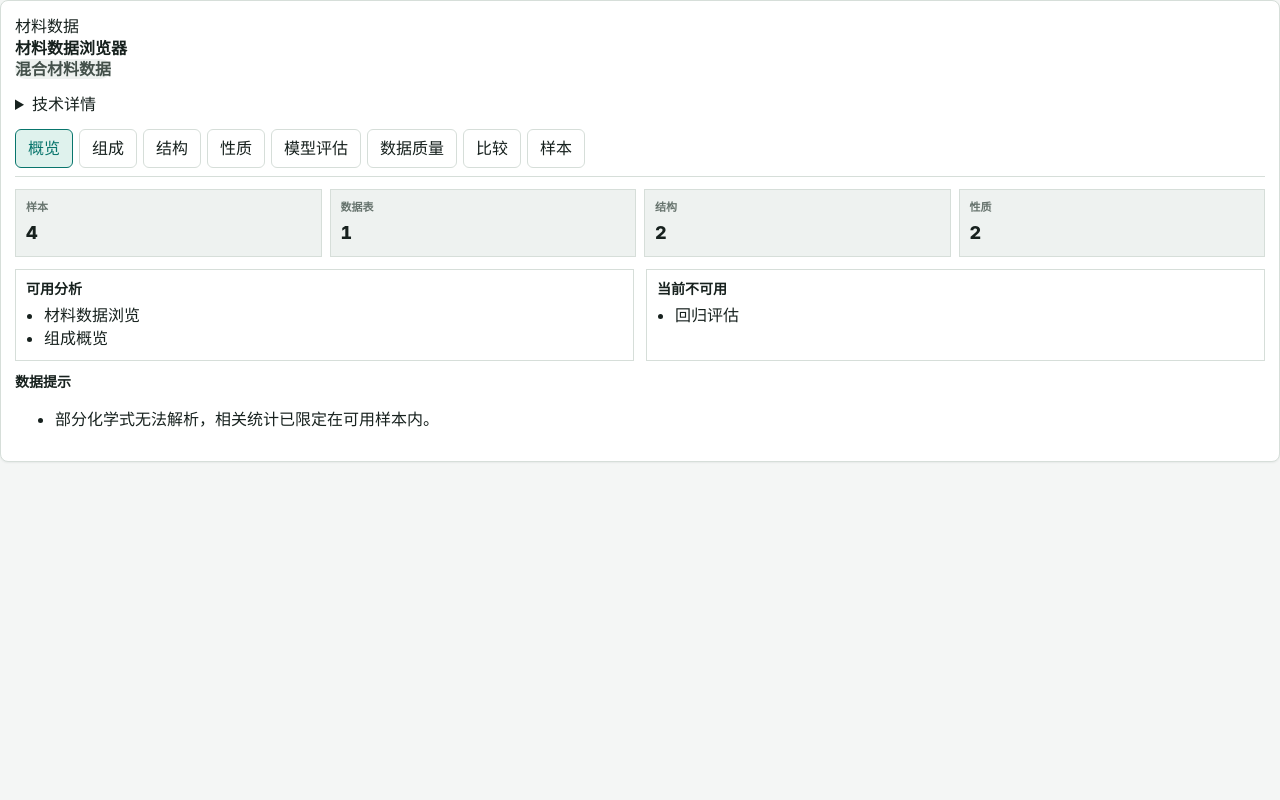
Test: DatasetMaterialsExplorerPanel › supports composition, property and stable sample inspection without executing code
The image size is (1280, 800).
Click the tab "组成". click: [108, 148]
box: [79, 129, 137, 168]
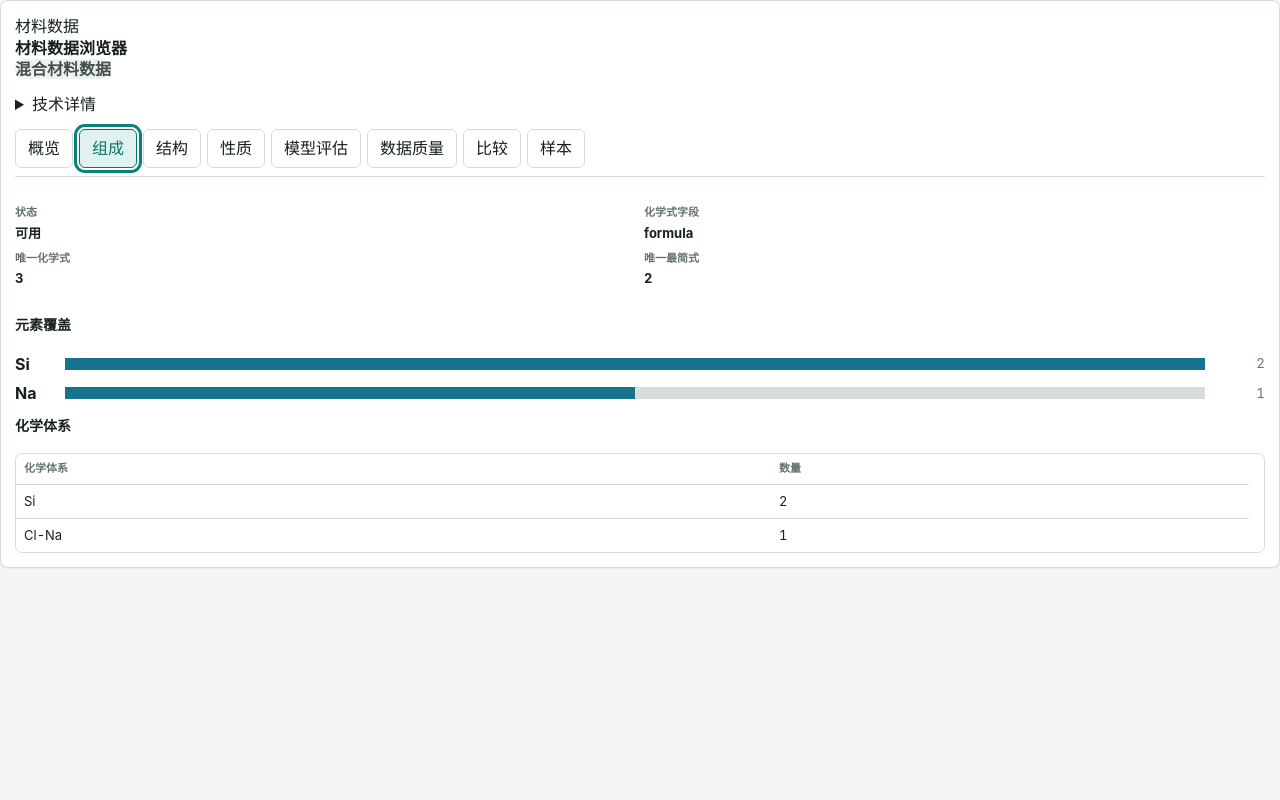
Expected: the element with test id "dataset-element-bars" shows "Si", [15, 354, 30, 374]
Expected: the element with test id "dataset-explorer-composition" shows "Cl-Na", [24, 527, 62, 543]
Click the tab "性质". click: [236, 148]
box: [207, 129, 265, 168]
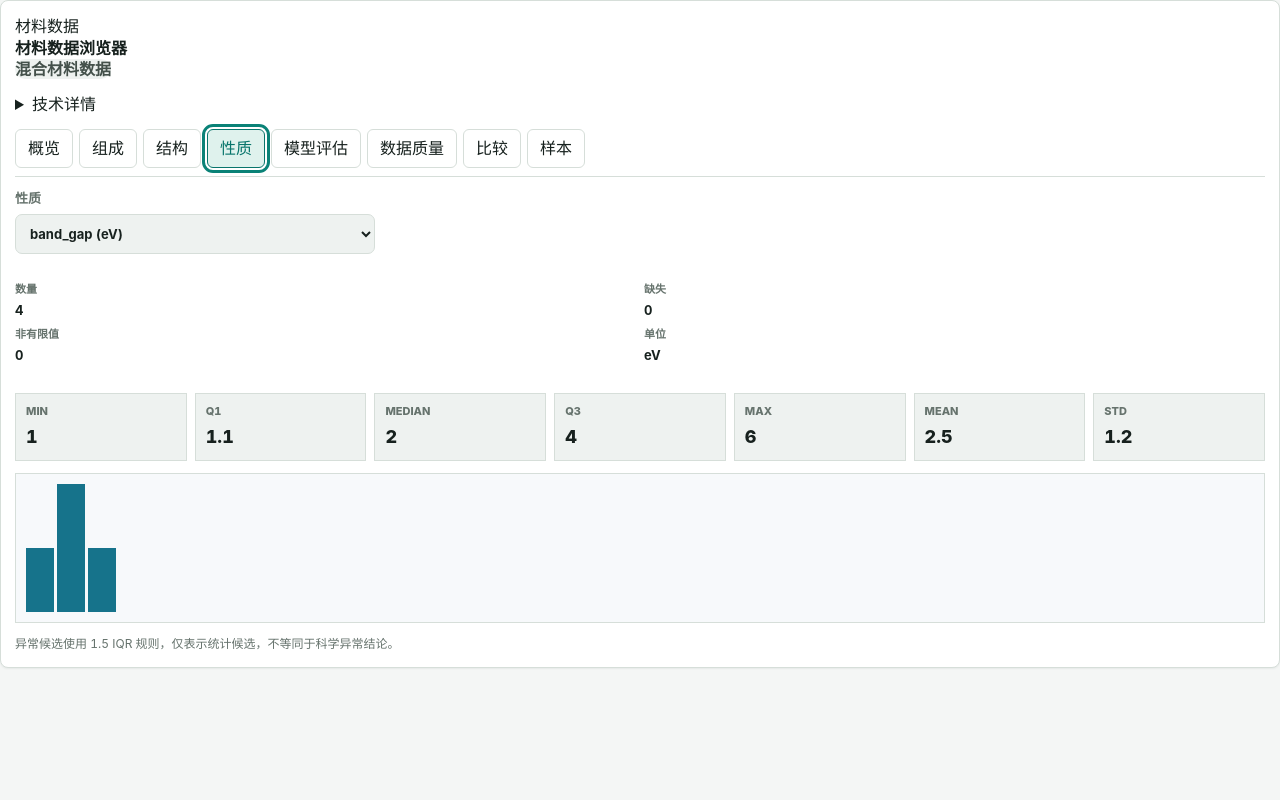
Select "density (g/cm^3)" in the dropdown labelled "性质". click: [195, 234]
box: [15, 214, 375, 254]
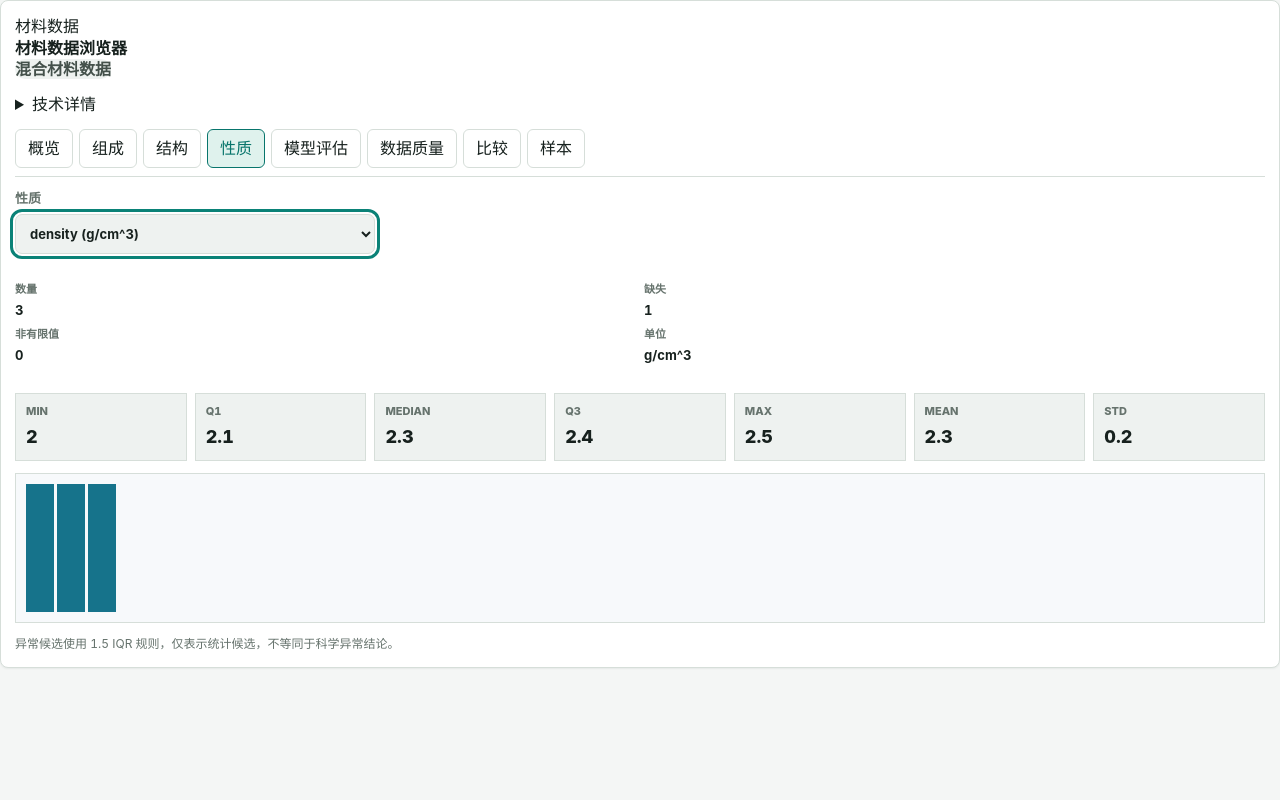
Expected: the element with test id "dataset-explorer-properties" shows "g/cm^3", [644, 347, 692, 363]
Click the tab "样本". click: [556, 148]
box: [527, 129, 585, 168]
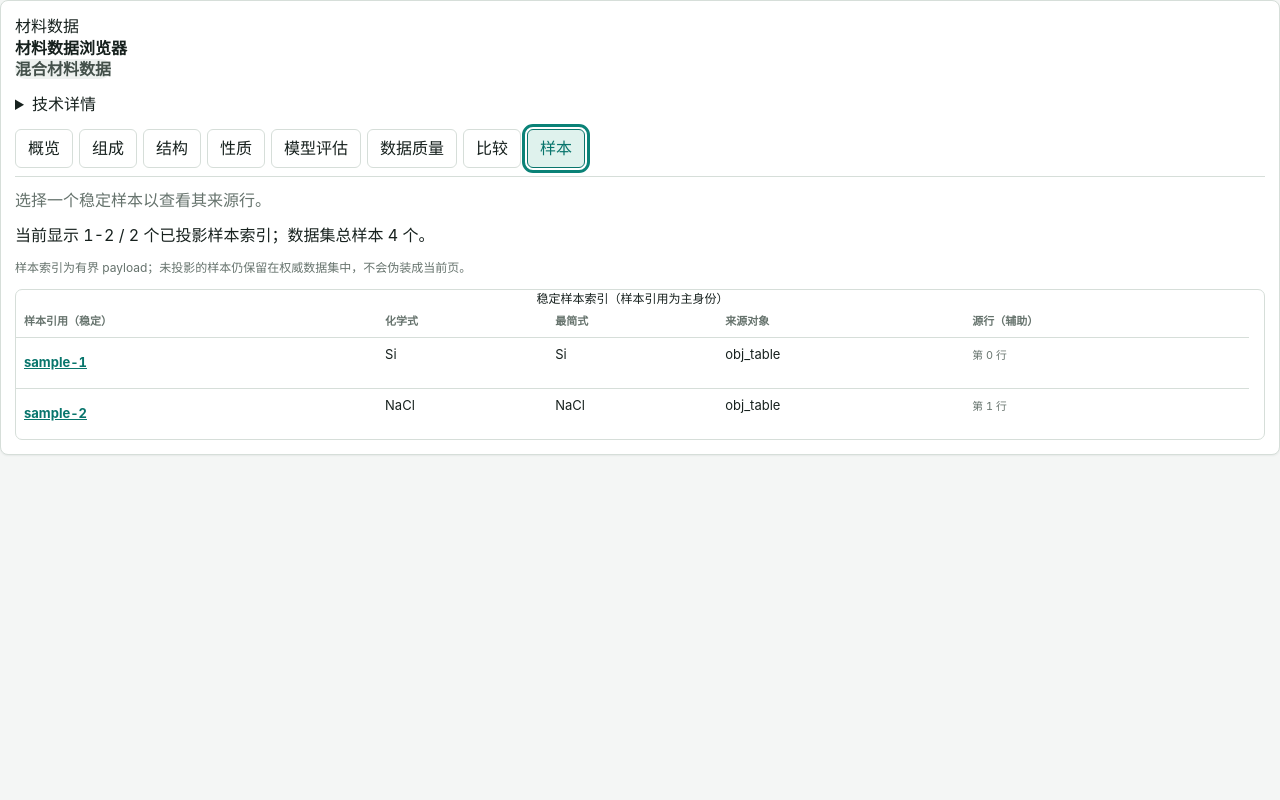
Click the button with aria-label "sample-2 from obj_table". click: [56, 414]
box: [24, 396, 87, 432]
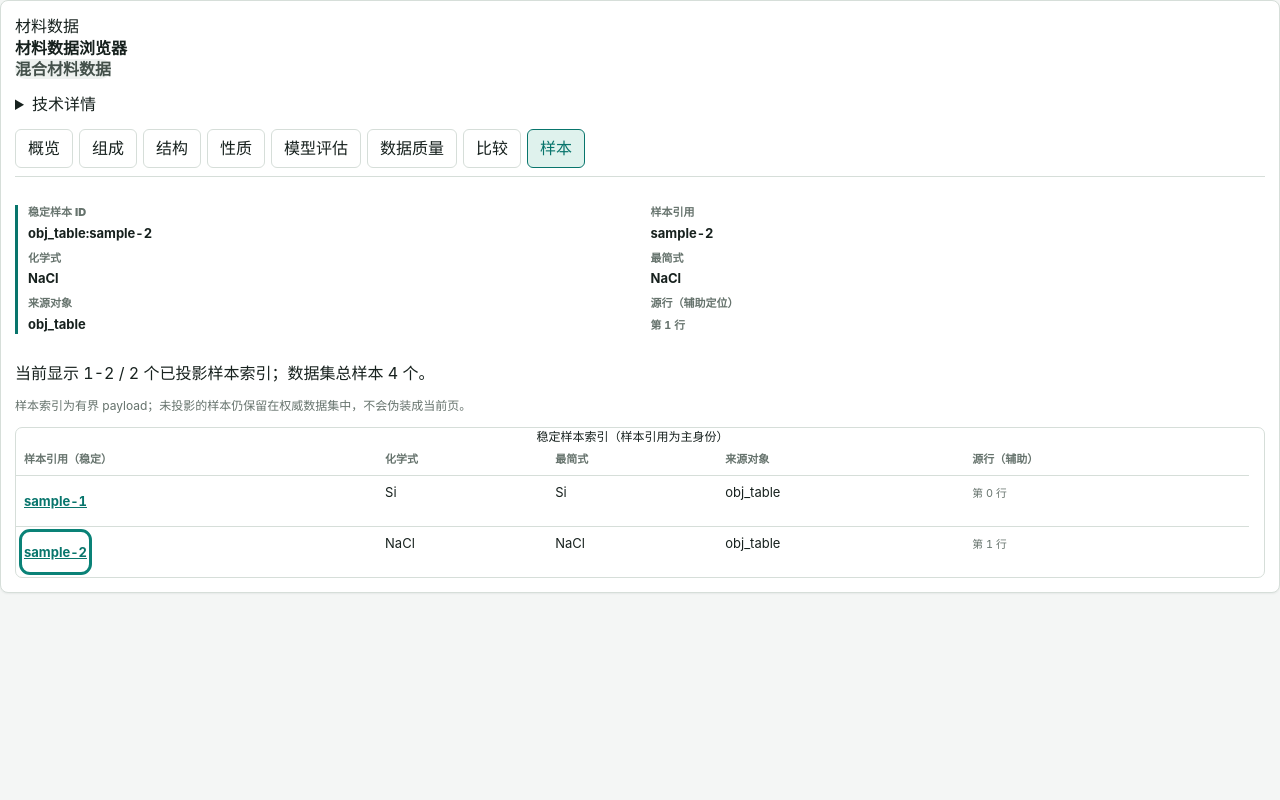
Expected: the element with test id "dataset-sample-inspector" shows "稳定样本 ID", [28, 205, 86, 219]
Expected: the element with test id "dataset-sample-inspector" shows "obj_table:sample-2", [28, 225, 152, 241]
Expected: the element with test id "dataset-sample-inspector" shows "样本引用", [650, 205, 694, 219]
